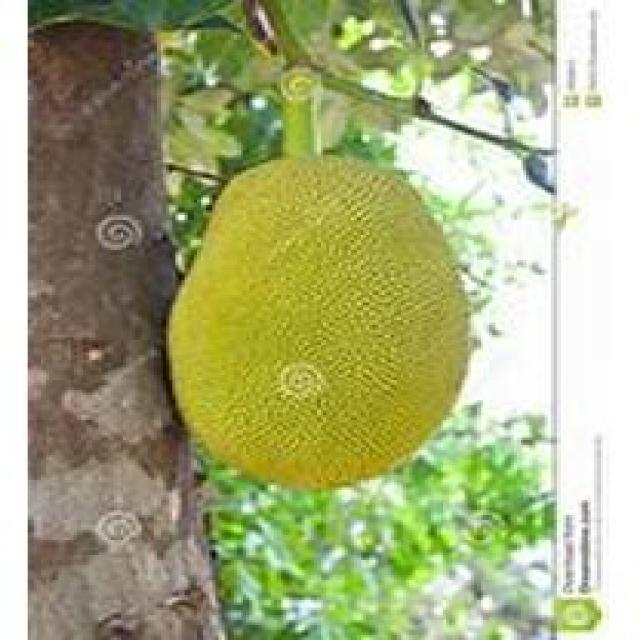Fruit: (145, 135, 508, 515)
